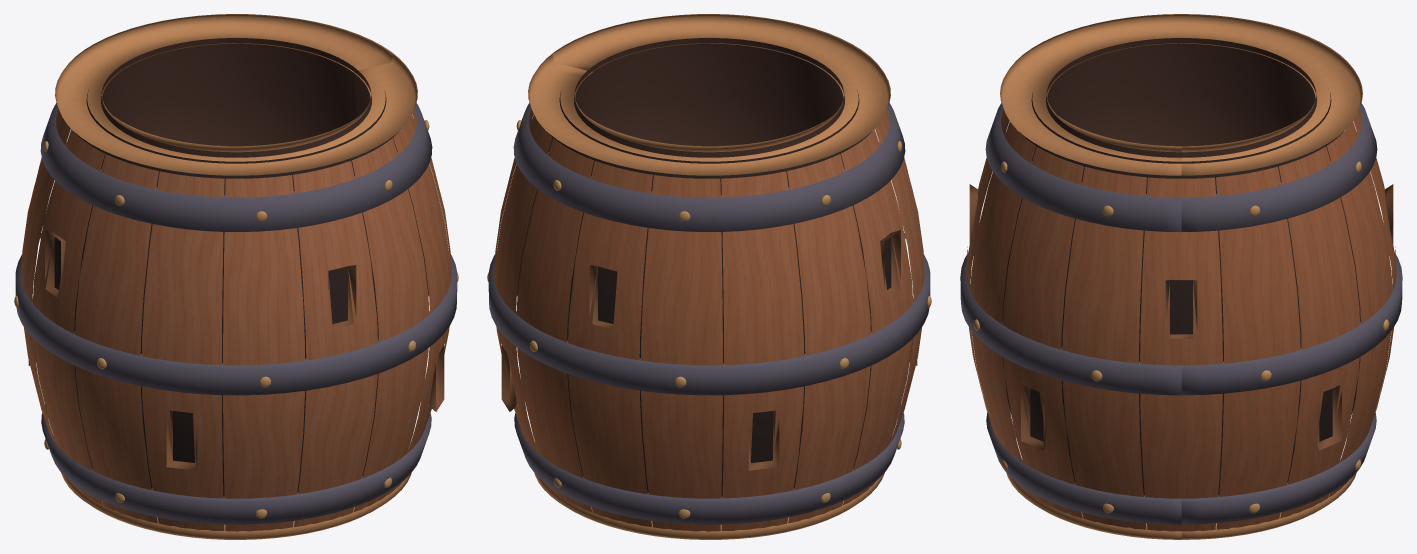
The model's file is oak_barrel.glb.
3 renders of one model, left to right at view 1: azimuth 30°, elevation 25°; view 2: azimuth 150°, elevation 25°; view 3: azimuth 270°, elevation 25°, orthographic.
Visible parts, largest first — view 1: HollowInterior, OakTopRim, Stave06, Stave07, Stave05, Stave08, ForgedHoop3, ForgedHoop2, Stave04, ForgedHoop1, Stave09, ShadowBehindStaves (+7 smaller); view 2: HollowInterior, OakTopRim, Stave12, Stave11, Stave13, Stave10, ForgedHoop3, ForgedHoop2, Stave14, ForgedHoop1, Stave09, ShadowBehindStaves (+7 smaller); view 3: HollowInterior, OakTopRim, Stave01, Stave02, Stave16, ForgedHoop3, ForgedHoop2, Stave03, Stave15, ForgedHoop1, Stave04, Stave14 (+7 smaller).
Part boxes in pixels (<box>): HollowInterior: <box>101,38,371,157</box>; OakTopRim: <box>55,14,417,175</box>; Stave06: <box>223,175,304,531</box>; Stave07: <box>141,171,224,530</box>; Stave05: <box>293,161,377,526</box>; Stave08: <box>75,154,158,523</box>; ForgedHoop3: <box>40,103,432,231</box>; ForgedHoop2: <box>15,233,457,395</box>; Stave04: <box>352,138,429,512</box>; ForgedHoop1: <box>41,405,431,524</box>; Stave09: <box>33,129,104,505</box>; ShadowBehindStaves: <box>54,89,428,496</box>; HollowInterior: <box>574,38,844,157</box>; OakTopRim: <box>528,14,890,175</box>; Stave12: <box>641,175,722,531</box>; Stave11: <box>721,171,804,530</box>; Stave13: <box>568,161,652,526</box>; Stave10: <box>787,154,870,523</box>; ForgedHoop3: <box>513,103,905,231</box>; ForgedHoop2: <box>488,233,930,395</box>; Stave14: <box>516,138,593,512</box>; ForgedHoop1: <box>514,405,904,524</box>; Stave09: <box>841,129,912,505</box>; ShadowBehindStaves: <box>517,89,891,496</box>; HollowInterior: <box>1046,38,1316,157</box>; OakTopRim: <box>1000,14,1362,175</box>; Stave01: <box>1140,177,1222,531</box>; Stave02: <box>1062,166,1146,529</box>; Stave16: <box>1216,166,1300,529</box>; ForgedHoop3: <box>985,103,1377,232</box>; ForgedHoop2: <box>960,255,1402,395</box>; Stave03: <box>1003,146,1083,518</box>; Stave15: <box>1279,146,1359,518</box>; ForgedHoop1: <box>986,412,1376,524</box>; Stave04: <box>970,122,1035,497</box>; Stave14: <box>1327,122,1392,497</box>.
Bounding box in the file's own units: 2.17 × 2.07 × 2.17.
9 materials, 1 textured.
